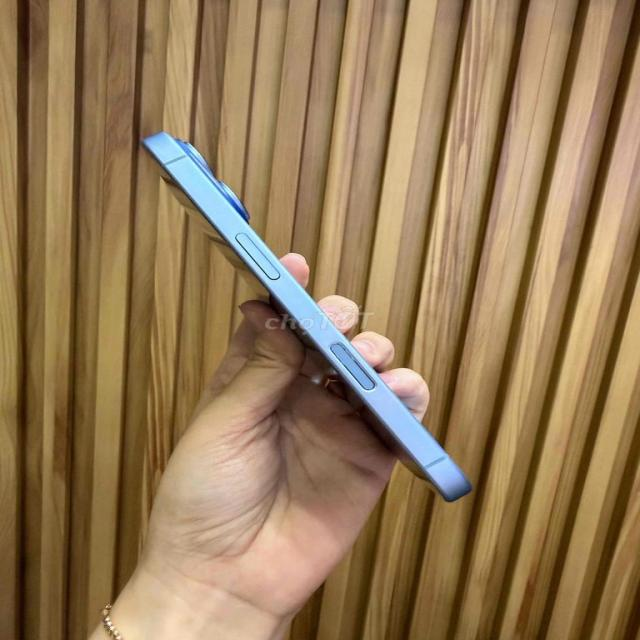gen_17: (124, 122, 475, 514)
